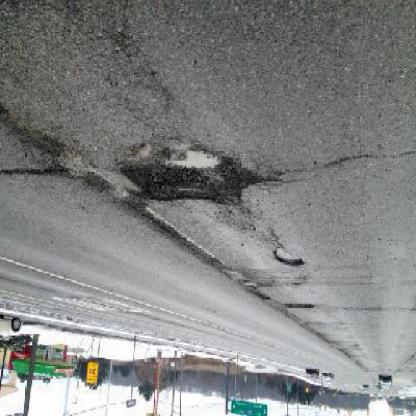pothole: (119, 149, 261, 209), (274, 247, 309, 272), (285, 305, 317, 312)
